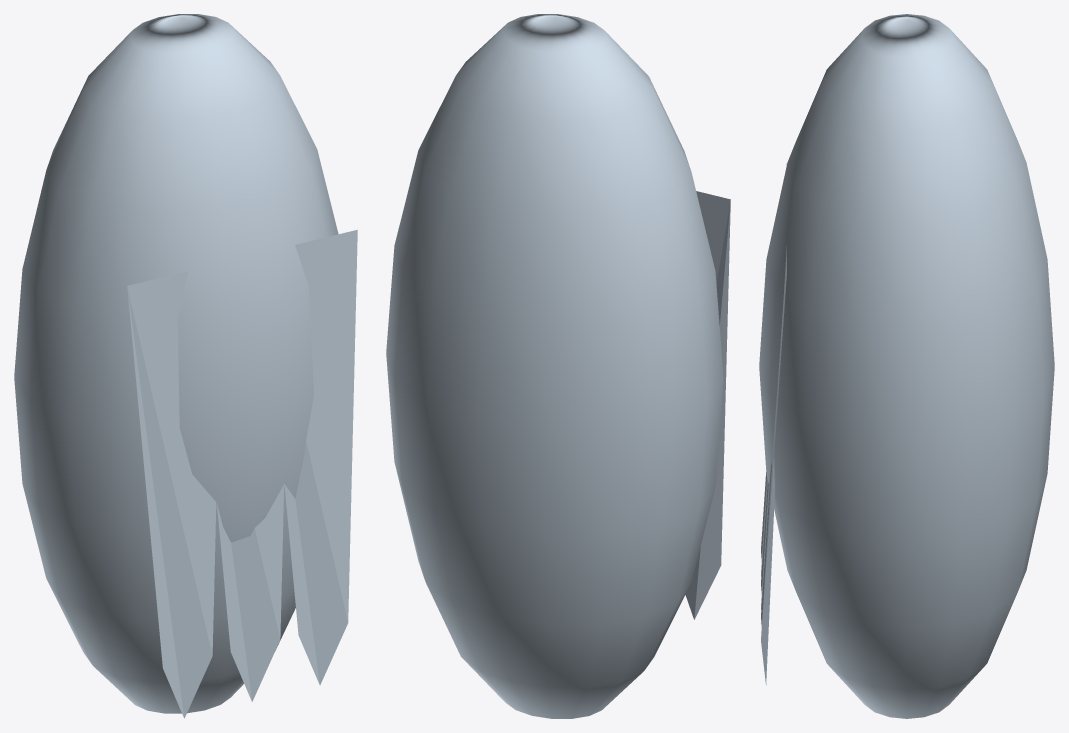
File: Fischl_MidnightPhantasmagoria_SingleTarget_OzBody.fbx
3 renders of one model, left to right at view 1: azimuth 30°, elevation 25°; view 2: azimuth 150°, elevation 25°; view 3: azimuth 270°, elevation 25°, orthographic.
Visible parts, largest first — view 1: PART_OzAuthoredRavenBody, PART_OzOverlappingBreastFeather_0, PART_OzOverlappingBreastFeather_2, PART_OzOverlappingBreastFeather_1; view 2: PART_OzAuthoredRavenBody, PART_OzOverlappingBreastFeather_0; view 3: PART_OzAuthoredRavenBody, PART_OzOverlappingBreastFeather_2.
Boxes of the visible parts, bbox=[...] form: PART_OzAuthoredRavenBody: bbox=[14, 14, 338, 713]; PART_OzOverlappingBreastFeather_0: bbox=[127, 271, 216, 718]; PART_OzOverlappingBreastFeather_2: bbox=[284, 229, 357, 685]; PART_OzOverlappingBreastFeather_1: bbox=[217, 484, 284, 701]; PART_OzAuthoredRavenBody: bbox=[386, 14, 723, 718]; PART_OzOverlappingBreastFeather_0: bbox=[685, 191, 730, 619]; PART_OzAuthoredRavenBody: bbox=[759, 14, 1054, 718]; PART_OzOverlappingBreastFeather_2: bbox=[761, 246, 786, 685].
Bounding box in the file's own units: 20 × 44 × 17.
